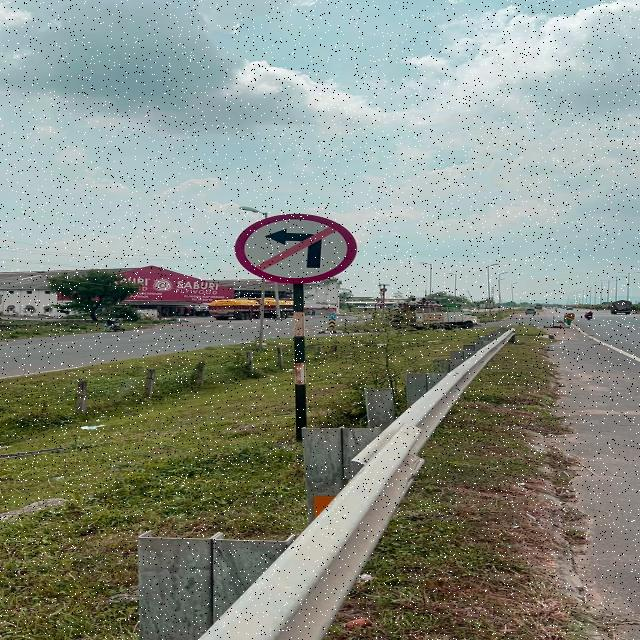No_left_Turn: (232, 207, 368, 284)
